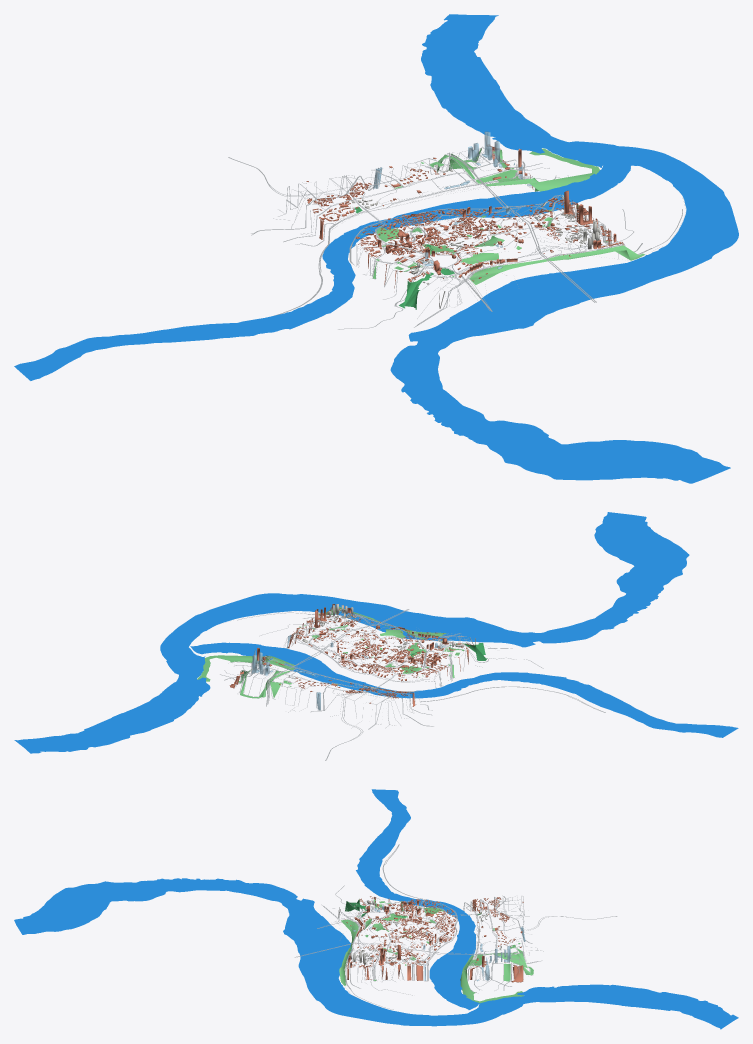
3 renders of one model, top to bottom at view 1: azimuth 30°, elevation 25°; view 2: azimuth 150°, elevation 25°; view 3: azimuth 270°, elevation 25°, orthographic. The views are drawn at different scales.
Parts seen in each view (by area): view 1: water/9087399, water/12982622, 江北嘴江滩公园; view 2: water/9087399, water/12982622, 江北嘴江滩公园; view 3: water/9087399, water/12982622, 江北嘴江滩公园.
Part boxes in pixels (x1,y1,x2,y2): water/9087399: [390, 14, 738, 483]; water/12982622: [14, 161, 634, 380]; 江北嘴江滩公园: [485, 148, 599, 191]; water/9087399: [14, 512, 689, 753]; water/12982622: [190, 642, 738, 737]; 江北嘴江滩公园: [197, 655, 294, 681]; water/9087399: [14, 878, 738, 1029]; water/12982622: [356, 789, 478, 1009]; 江北嘴江滩公园: [460, 955, 523, 1003].
Bounding box in the file's own units: 10190 × 576 × 13106.
